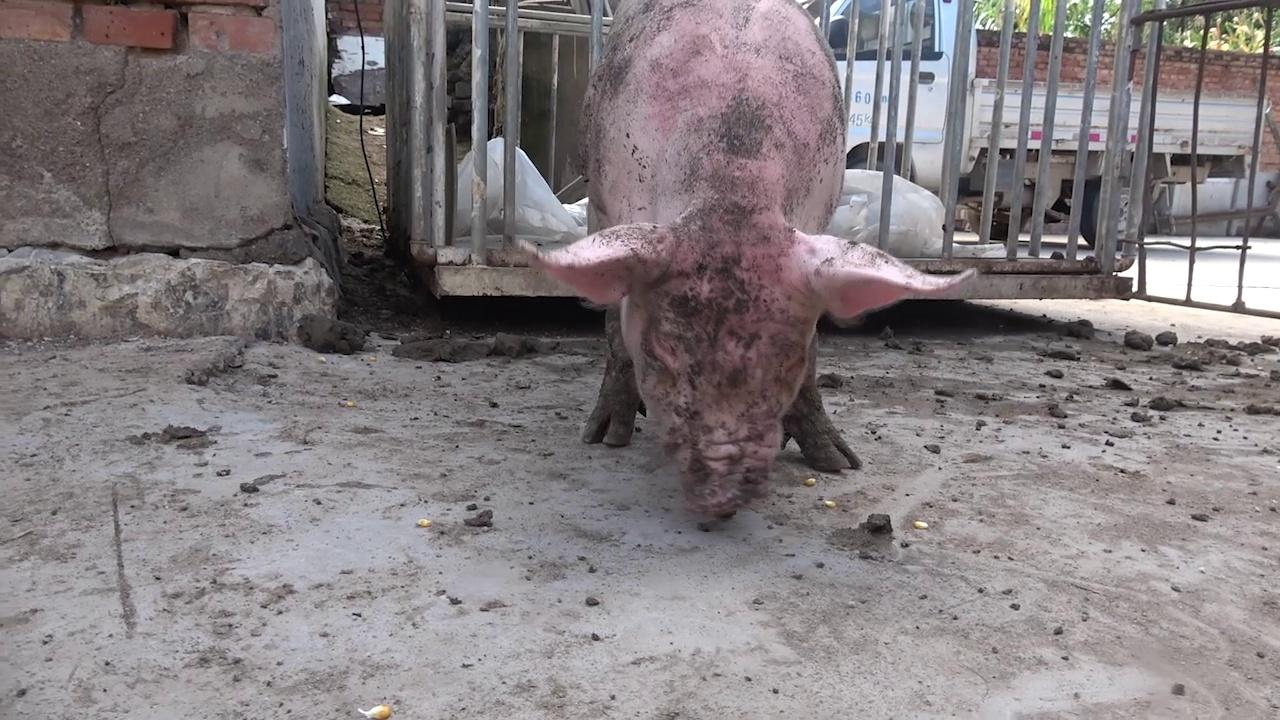Face: (505, 207, 979, 542)
